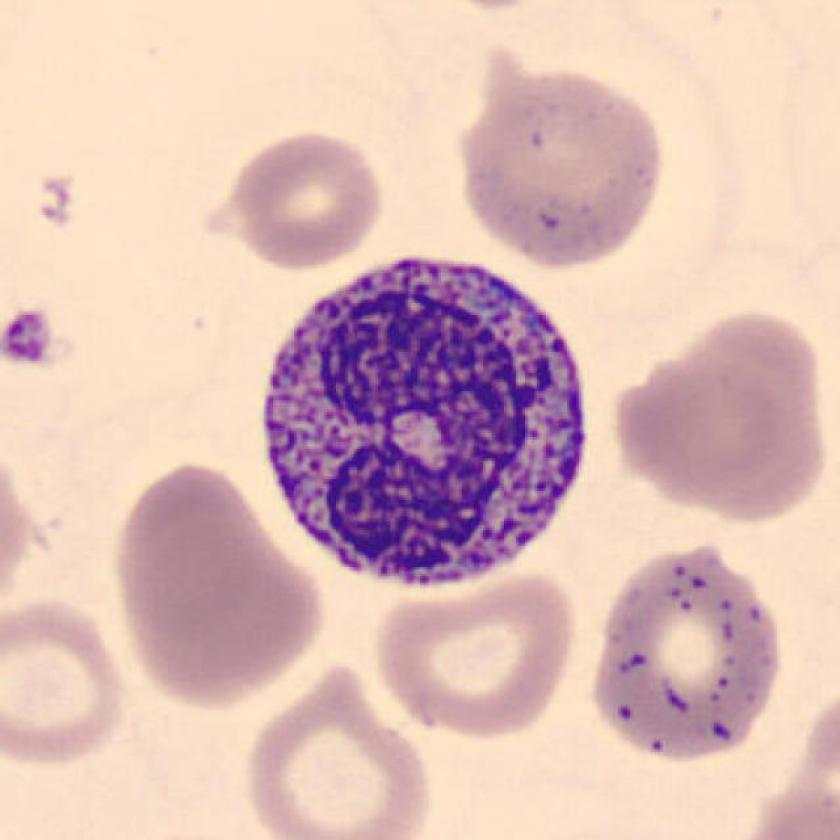neutrophil: (264, 261, 588, 586)
